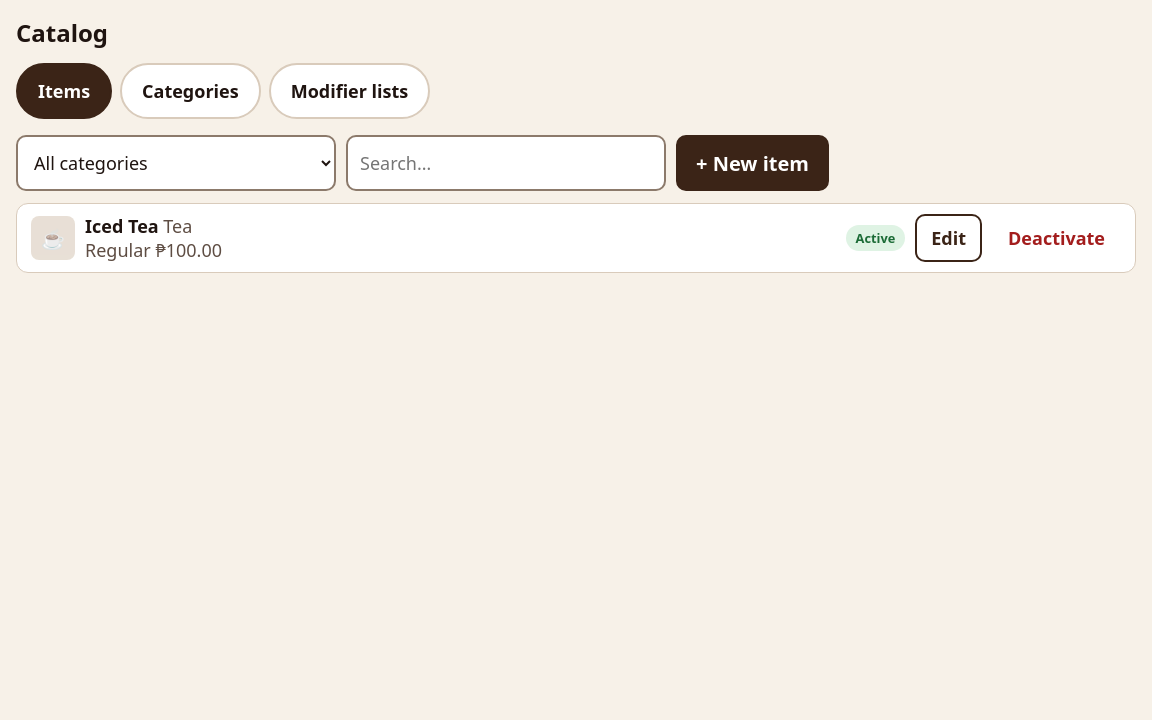
Test: CatalogPage › validates the item form including variation name, SKU and price
The width and height of the screenshot is (1152, 720).
Expected: the text "Iced Tea" is shown, x1=85 y1=214 x2=159 y2=238
Click the button "+ New item" at (752, 163), box x1=676 y1=135 x2=829 y2=191
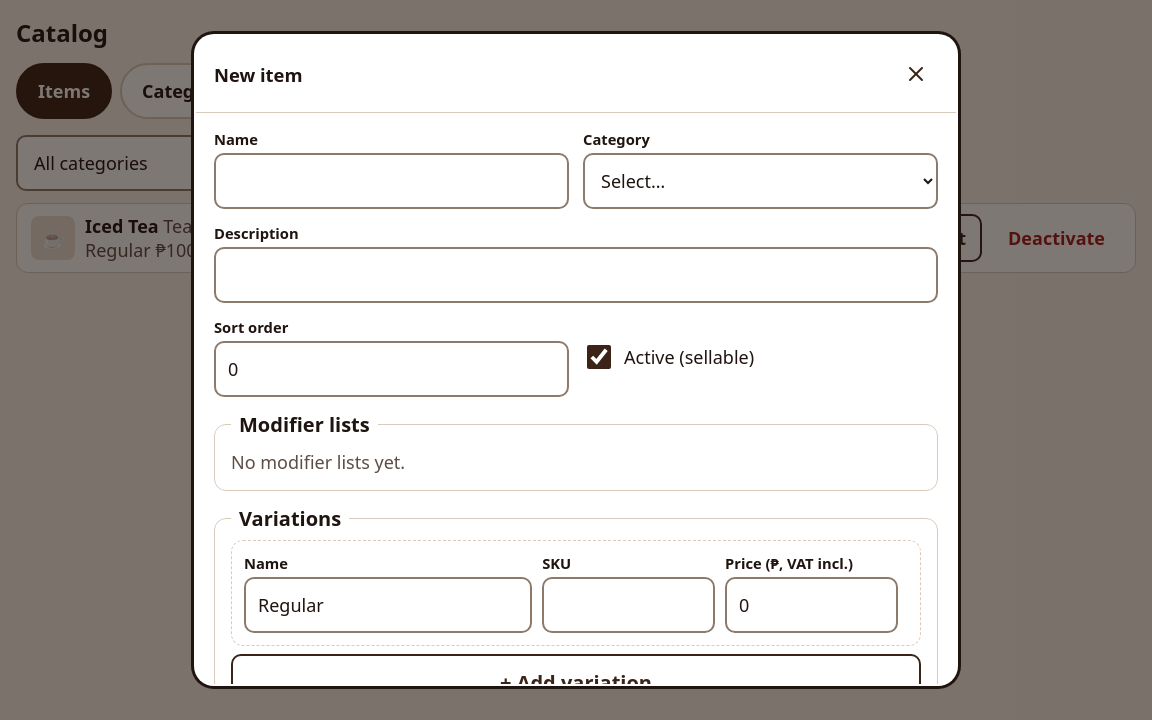
Click the button "+ Add variation" at (576, 682), box x1=231 y1=654 x2=921 y2=710
(page scrolled)
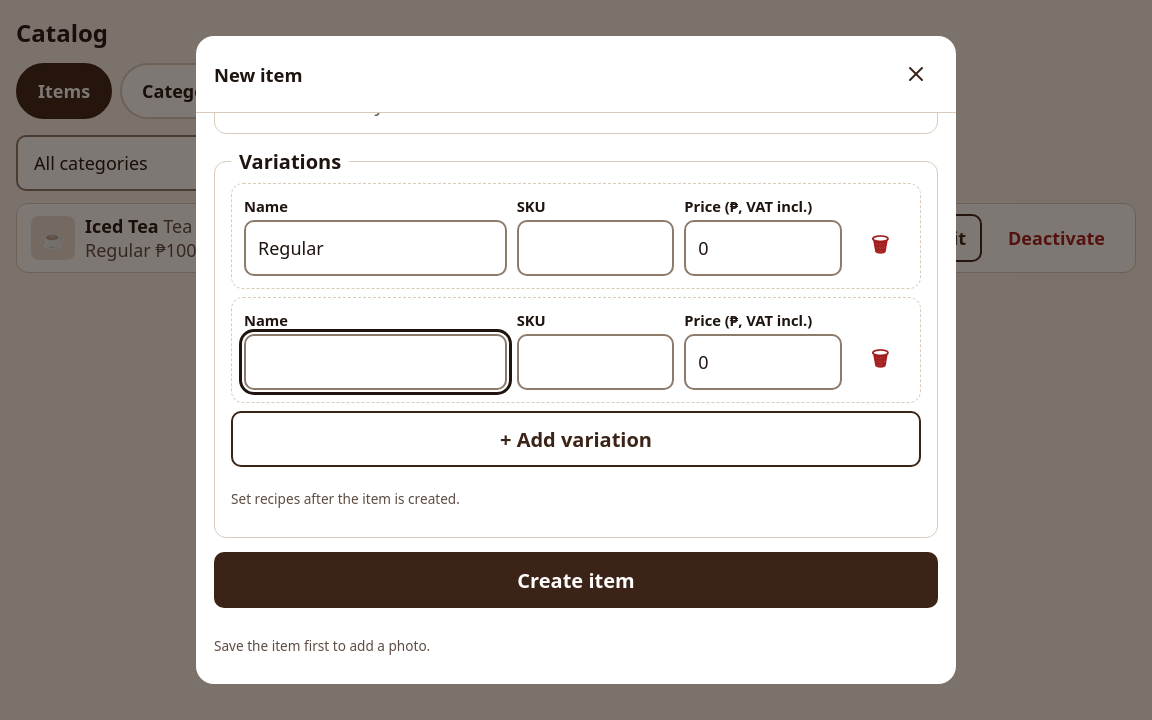
Click the button "Create item" at (576, 580), box x1=214 y1=552 x2=938 y2=608
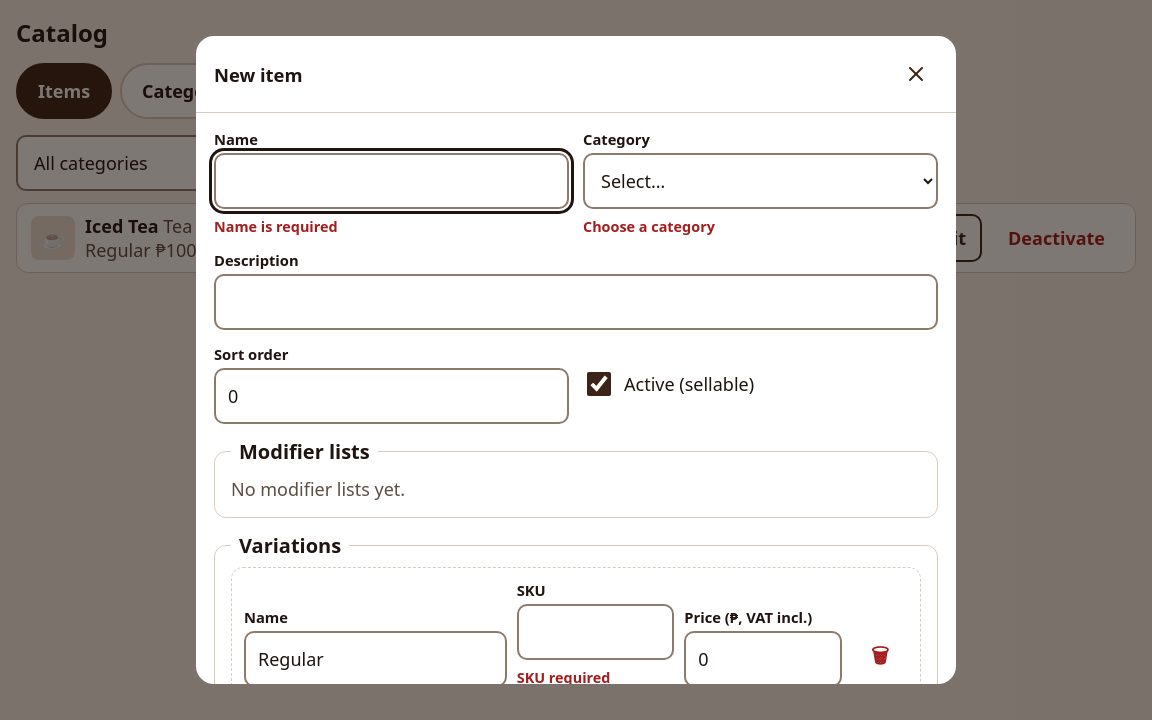
Result: the text "Choose a category" is shown at x1=583 y1=217 x2=715 y2=236
Result: the text "Name is required" is shown at x1=214 y1=217 x2=338 y2=236
Result: the text "SKU required" is shown 2 times
